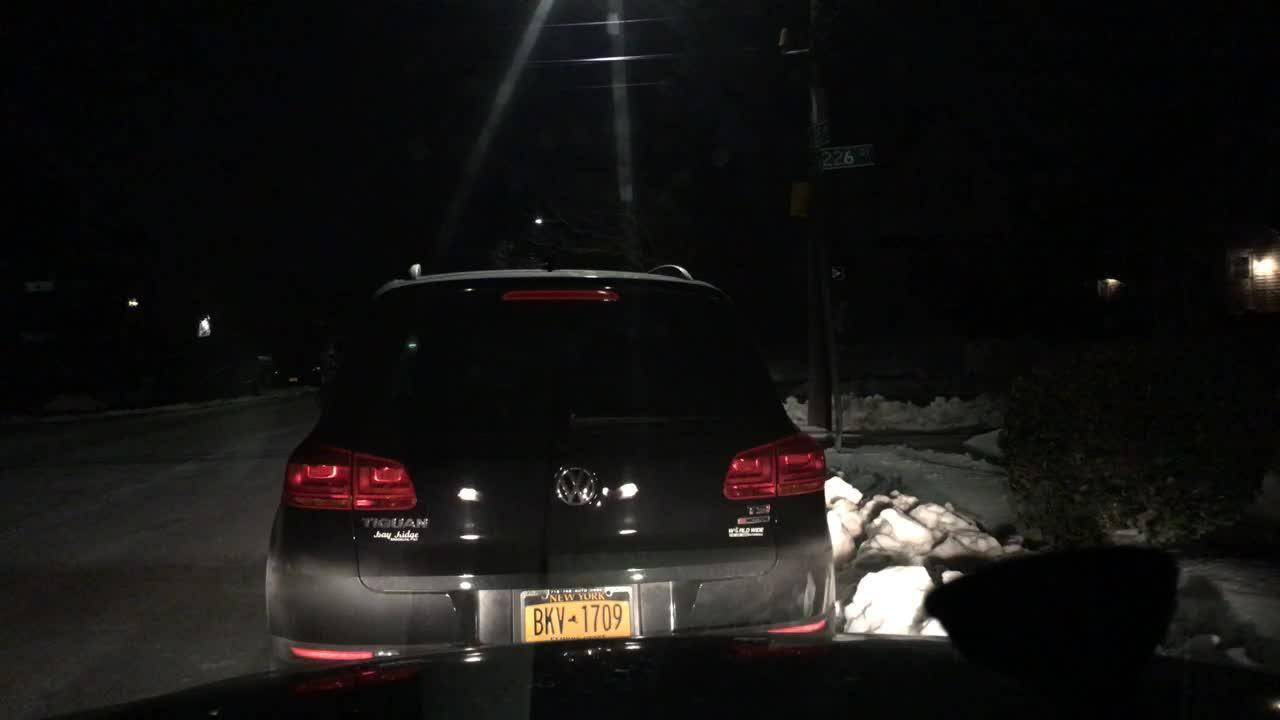Volkswagen: (552, 460, 602, 512)
